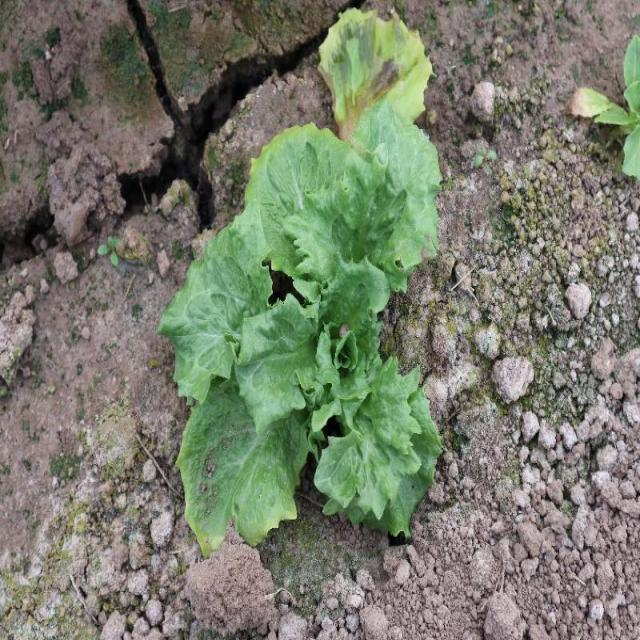crop: (157, 119, 442, 551)
